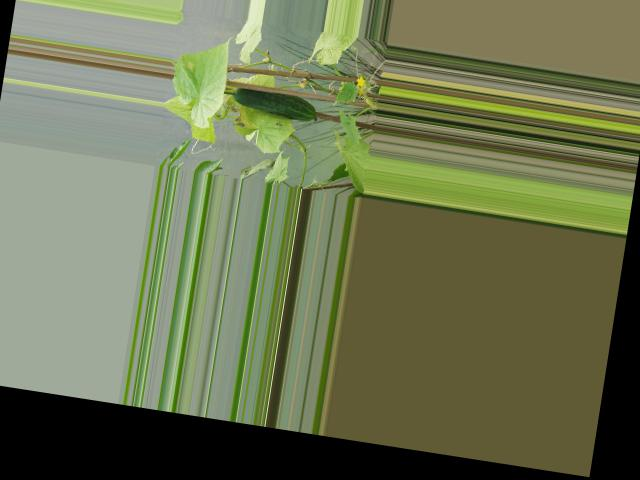cucumber: (231, 86, 319, 123)
